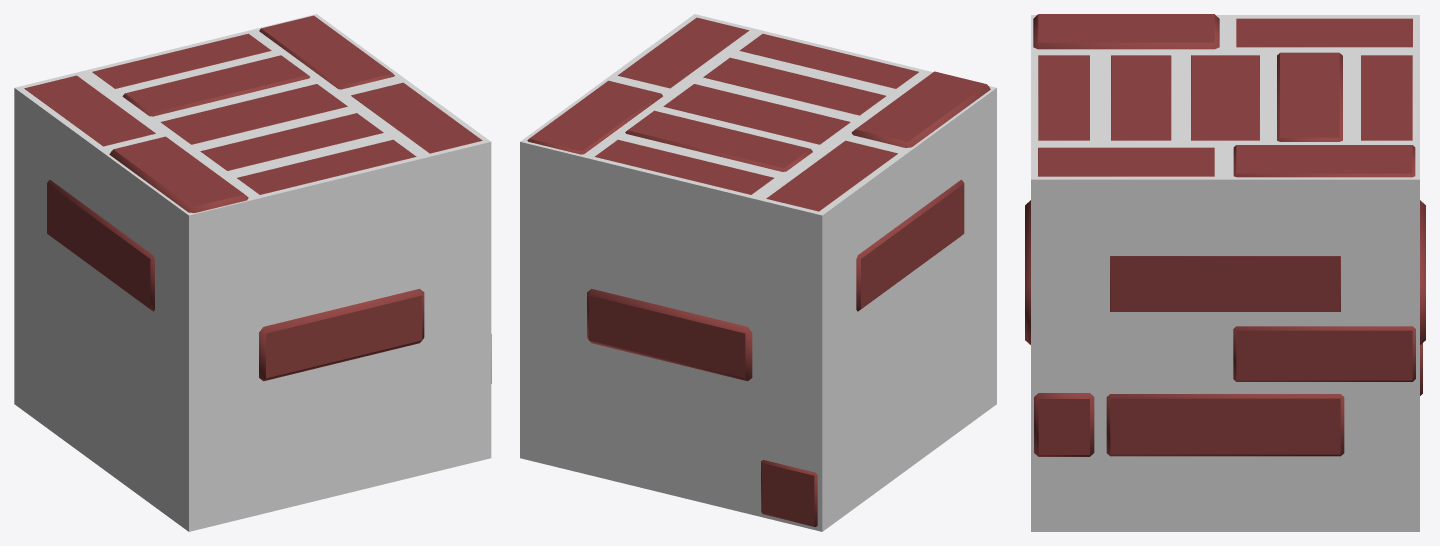
Rendered from Cube_Bricks1.fbx.
3 views of the same model, side by side, from view 1: azimuth 30°, elevation 25°; view 2: azimuth 150°, elevation 25°; view 3: azimuth 270°, elevation 25° (orthographic). The views are drawn at different scales.
Parts seen in each view (by area): view 1: BoxCol, Cube_Bricks; view 2: BoxCol, Cube_Bricks; view 3: BoxCol, Cube_Bricks.
Boxes of the visible parts, x1,y1,x2,y2 form: BoxCol: (14,14,491,531); Cube_Bricks: (24,15,491,383); BoxCol: (520,14,996,531); Cube_Bricks: (527,17,990,526); BoxCol: (1031,15,1419,531); Cube_Bricks: (1025,14,1425,456).
Size of the model in its own units: 204 by 203 by 206.
